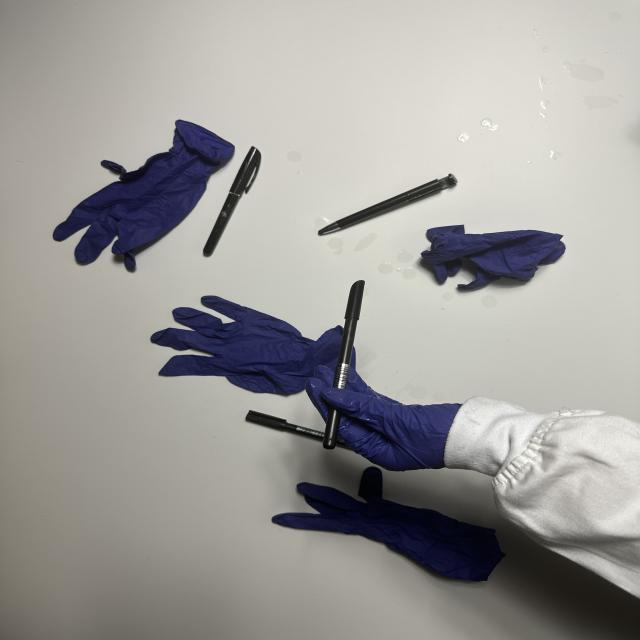gloves_contaminated: (306, 366, 462, 471)
